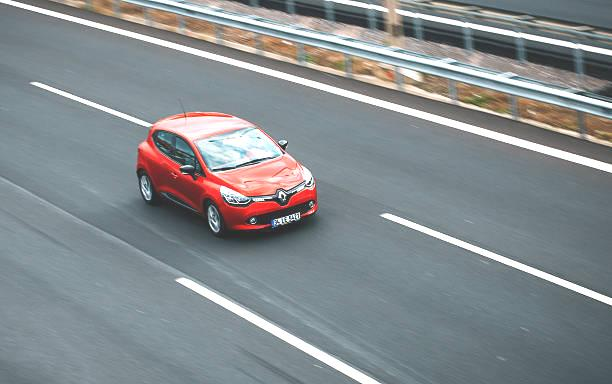Renault: (276, 189, 289, 205)
